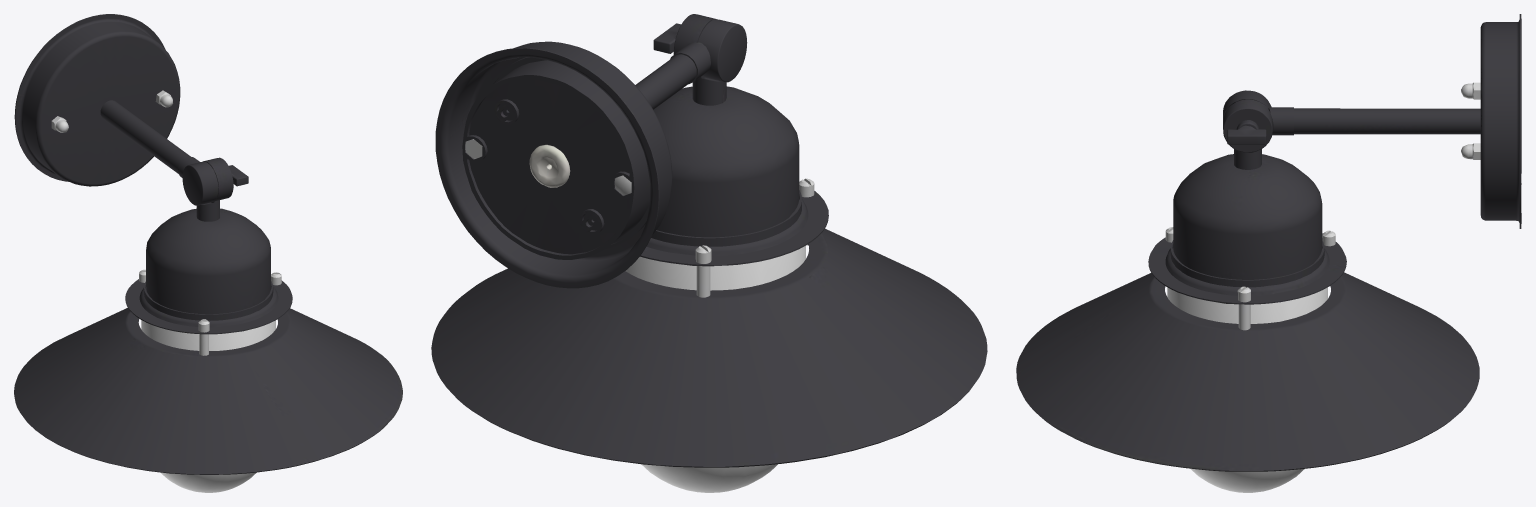
Rendered from wall_lamp (1).fbx.
3 views of the same model, side by side, from view 1: azimuth 30°, elevation 25°; view 2: azimuth 150°, elevation 25°; view 3: azimuth 270°, elevation 25° (orthographic). The views are drawn at different scales.
Parts seen in each view (by area): view 1: node_b998fcf4_2c38_4c14_9be1_3f82e1b6e87d_mesh0, node_d04eadff_31e8_44aa_9a03_d10fee9d3009_mesh0; view 2: node_b998fcf4_2c38_4c14_9be1_3f82e1b6e87d_mesh0, node_d04eadff_31e8_44aa_9a03_d10fee9d3009_mesh0; view 3: node_b998fcf4_2c38_4c14_9be1_3f82e1b6e87d_mesh0, node_d04eadff_31e8_44aa_9a03_d10fee9d3009_mesh0.
Boxes of the visible parts, x1,y1,x2,y2 form: node_b998fcf4_2c38_4c14_9be1_3f82e1b6e87d_mesh0: [14, 14, 402, 474]; node_d04eadff_31e8_44aa_9a03_d10fee9d3009_mesh0: [141, 320, 275, 492]; node_b998fcf4_2c38_4c14_9be1_3f82e1b6e87d_mesh0: [431, 14, 987, 467]; node_d04eadff_31e8_44aa_9a03_d10fee9d3009_mesh0: [625, 245, 805, 492]; node_b998fcf4_2c38_4c14_9be1_3f82e1b6e87d_mesh0: [1016, 14, 1521, 471]; node_d04eadff_31e8_44aa_9a03_d10fee9d3009_mesh0: [1167, 287, 1327, 492].
Bounding box in the file's own units: 28 × 30.75 × 30.53.
2 materials, 2 textured.
